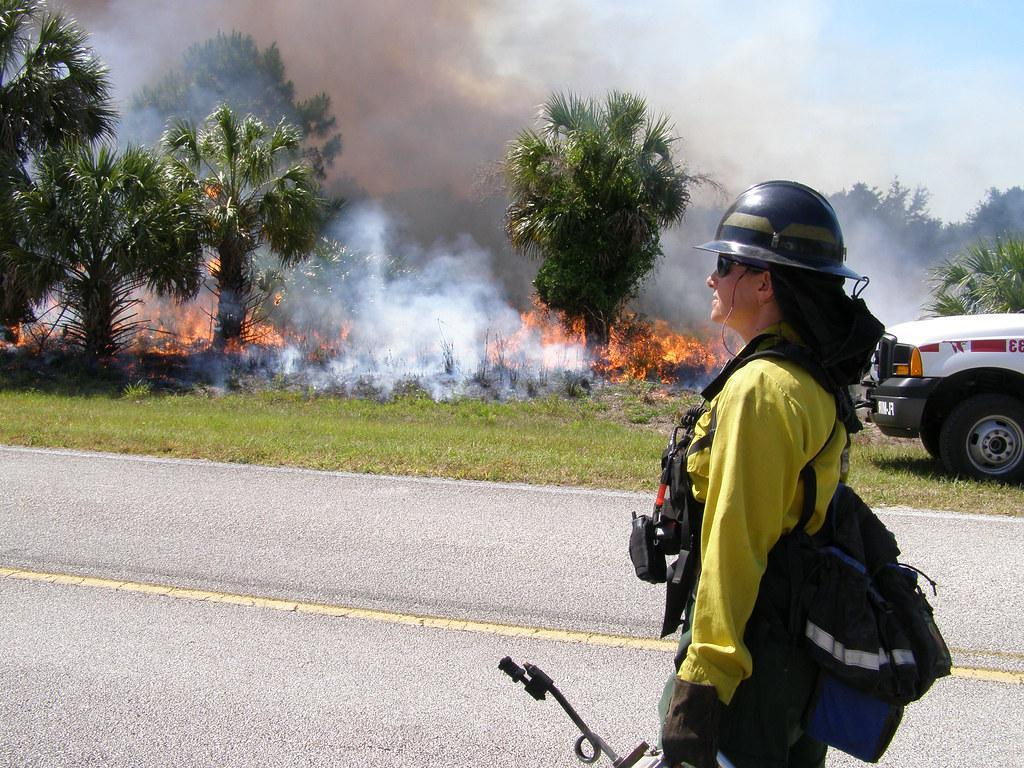Fire: (508, 285, 722, 384), (126, 273, 222, 358), (240, 296, 297, 354)
